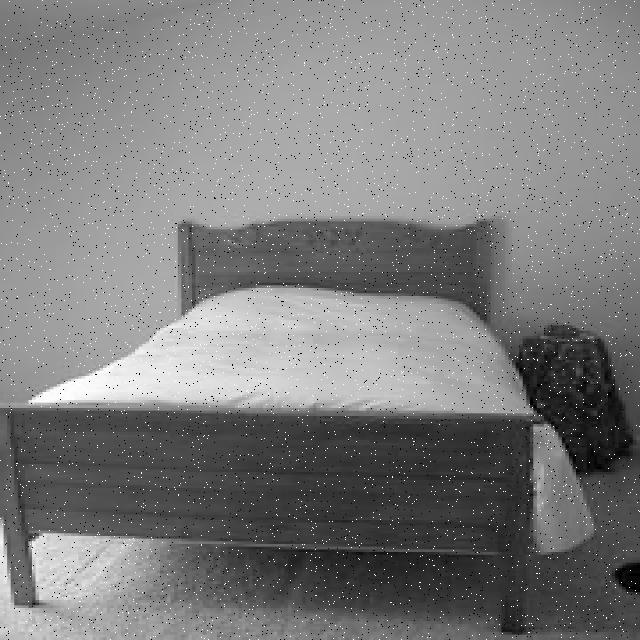bed: (13, 214, 561, 624)
